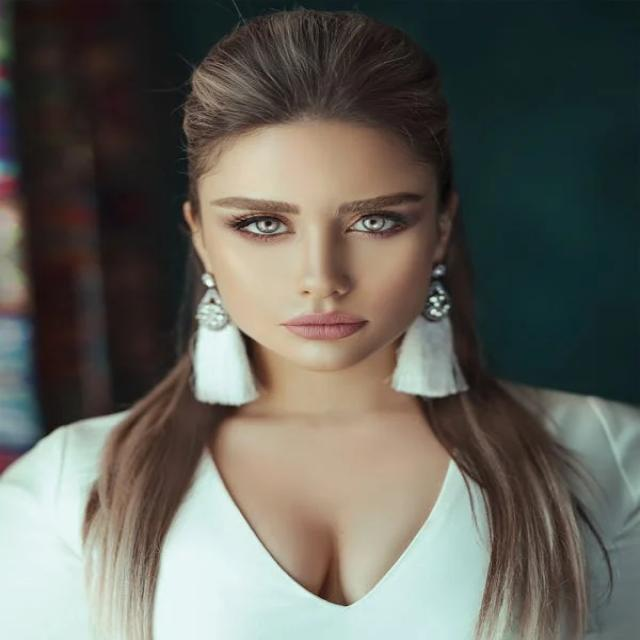no_mask: (174, 80, 476, 420)
